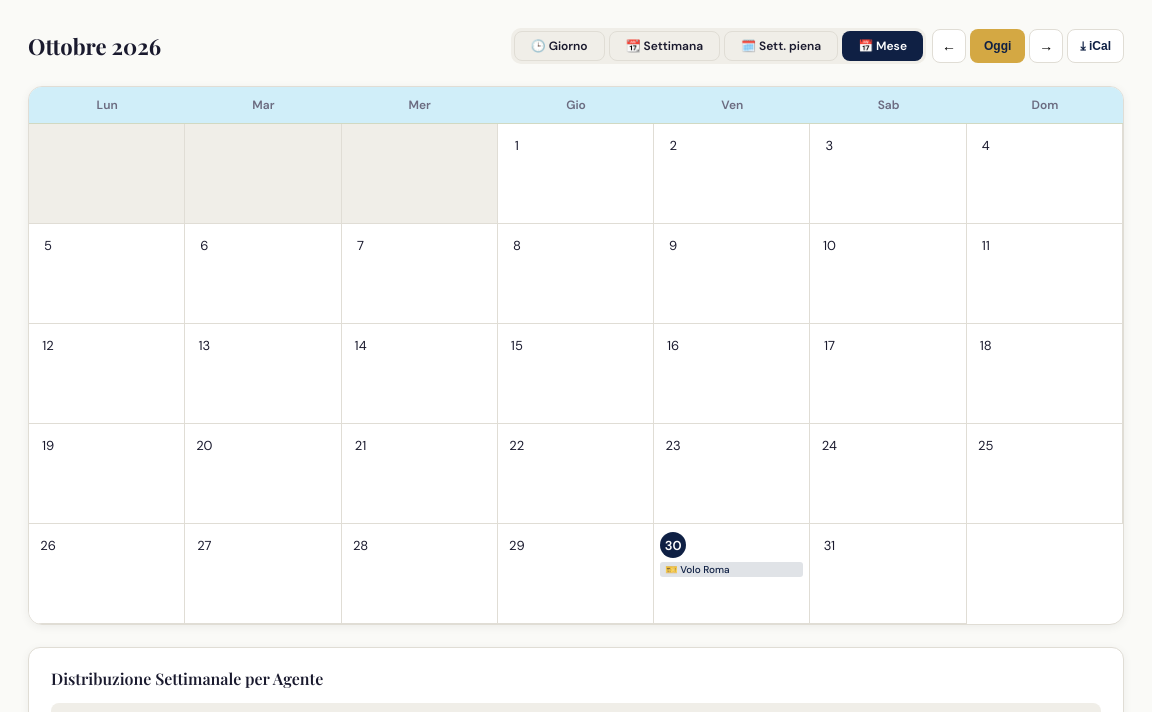
Test: CalendarPlanner — le quattro viste montano e mostrano i task › giorno: la griglia oraria mostra il task e il conteggio in agenda
The width and height of the screenshot is (1152, 712).
Click the button "🕒 Giorno". click: coordinates (559, 46)
box: [514,31,605,61]
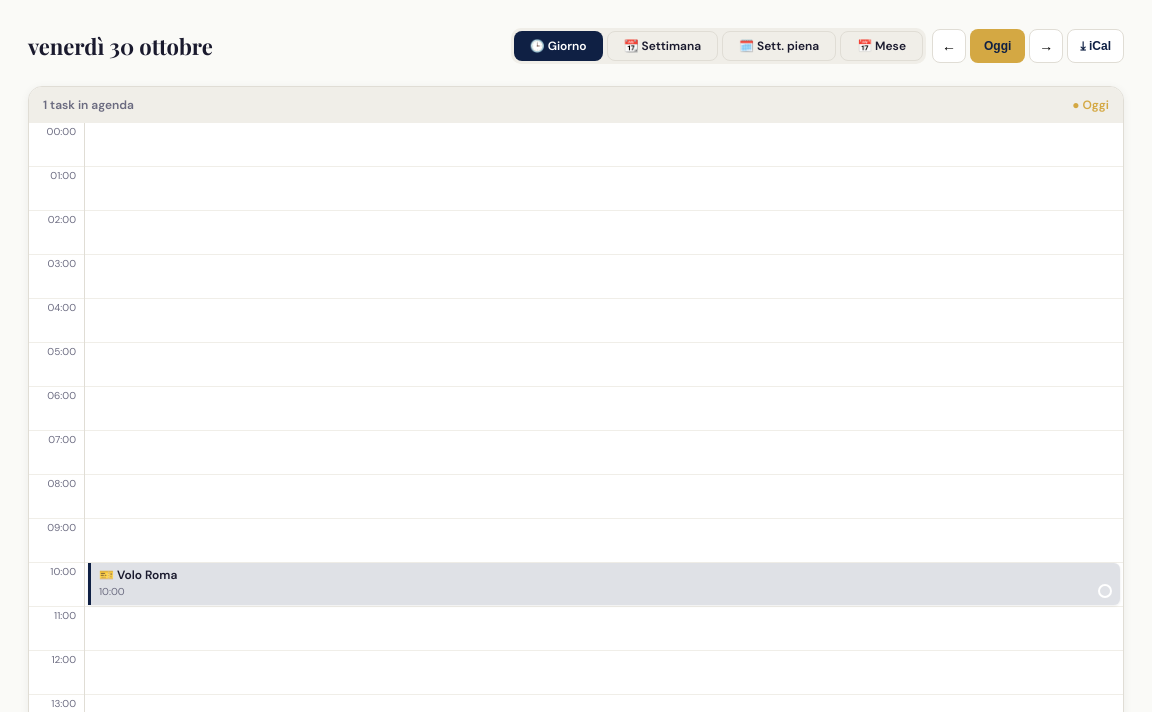
Expected: the text "🎫 Volo Roma" is shown, [99,567,177,583]
Expected: the text "1 task in agenda" is shown, [43,97,134,113]
